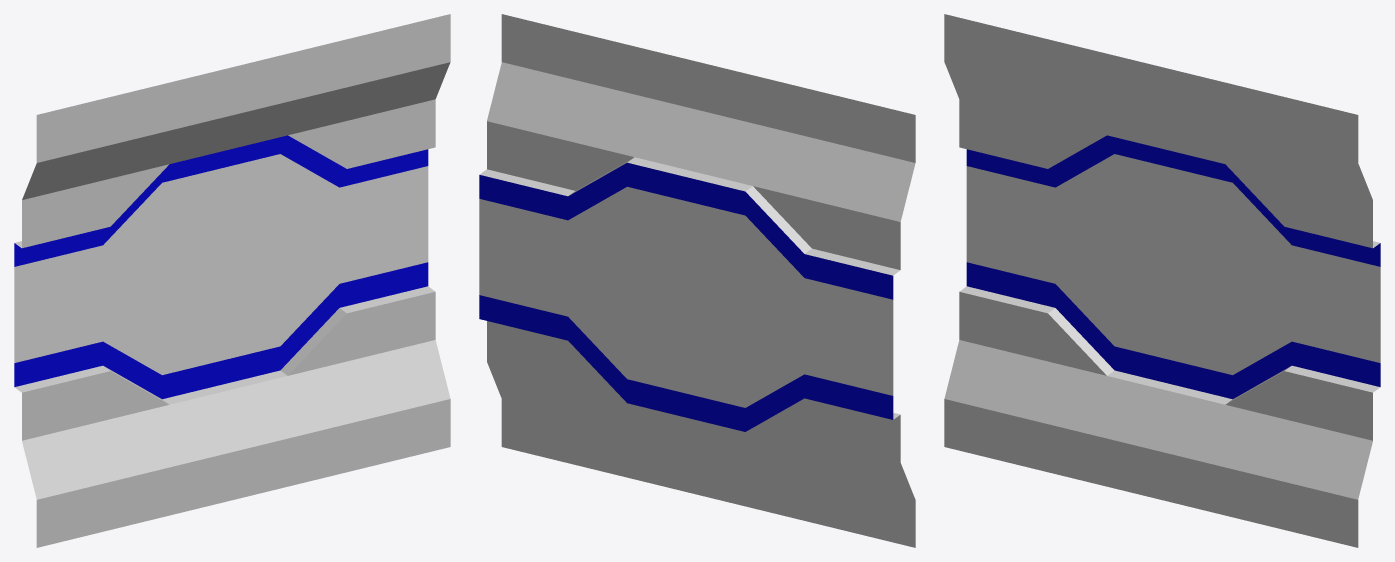
File: Wall002.fbx
3 views of the same model, side by side, from view 1: azimuth 30°, elevation 25°; view 2: azimuth 150°, elevation 25°; view 3: azimuth 330°, elevation 25° (orthographic).
Visible parts, largest first — view 1: Wall002; view 2: Wall002; view 3: Wall002.
Part boxes in pixels (left/top/right/bottom): Wall002: left=14, top=14, right=450, bottom=547; Wall002: left=479, top=14, right=915, bottom=547; Wall002: left=944, top=14, right=1380, bottom=547.
Bounding box in the file's own units: 2 × 2 × 0.1875.
